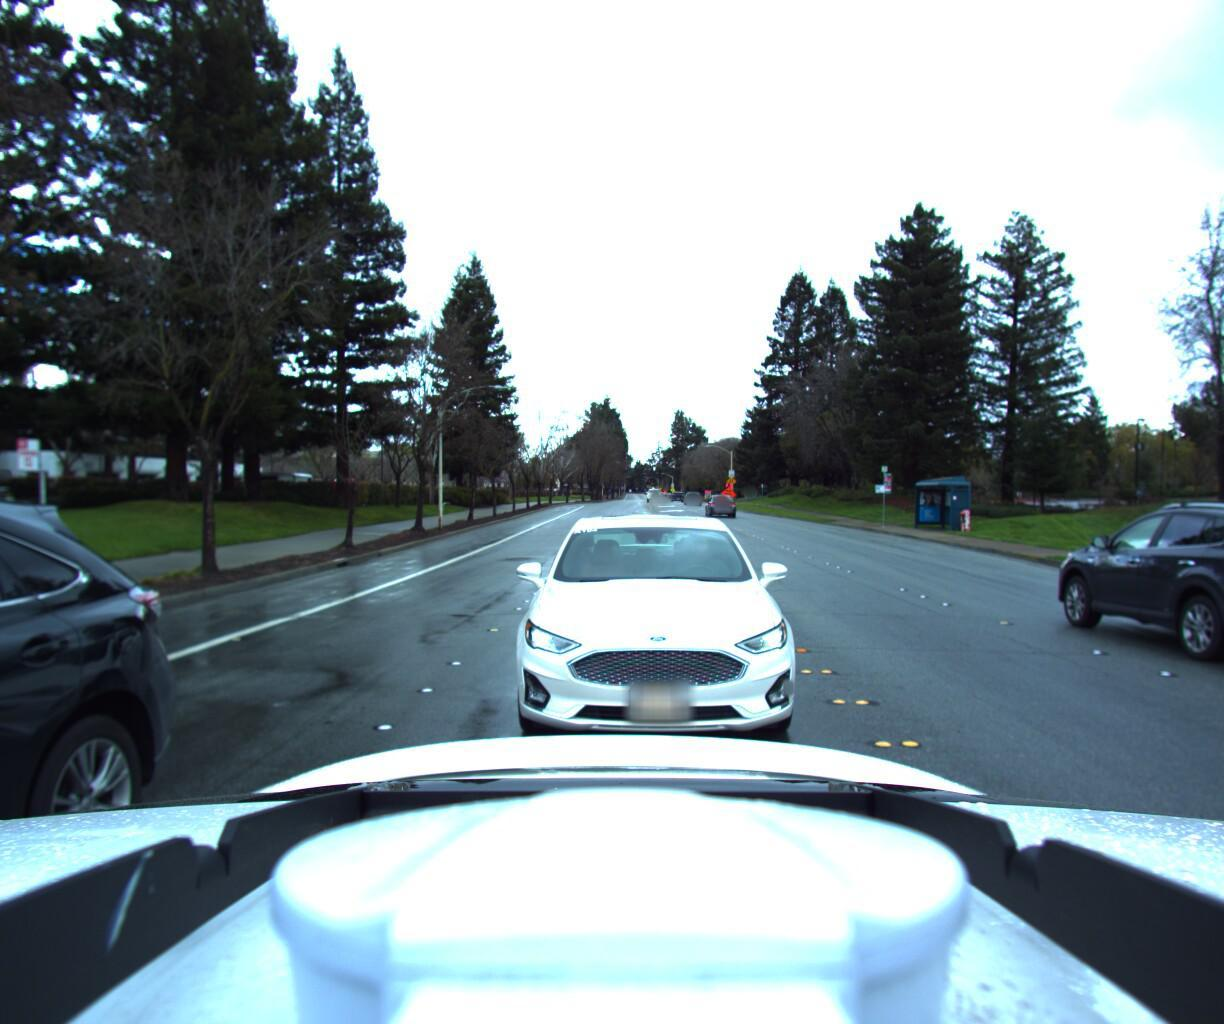car: (487, 504, 823, 776), (1009, 491, 1224, 667), (702, 491, 735, 515)
